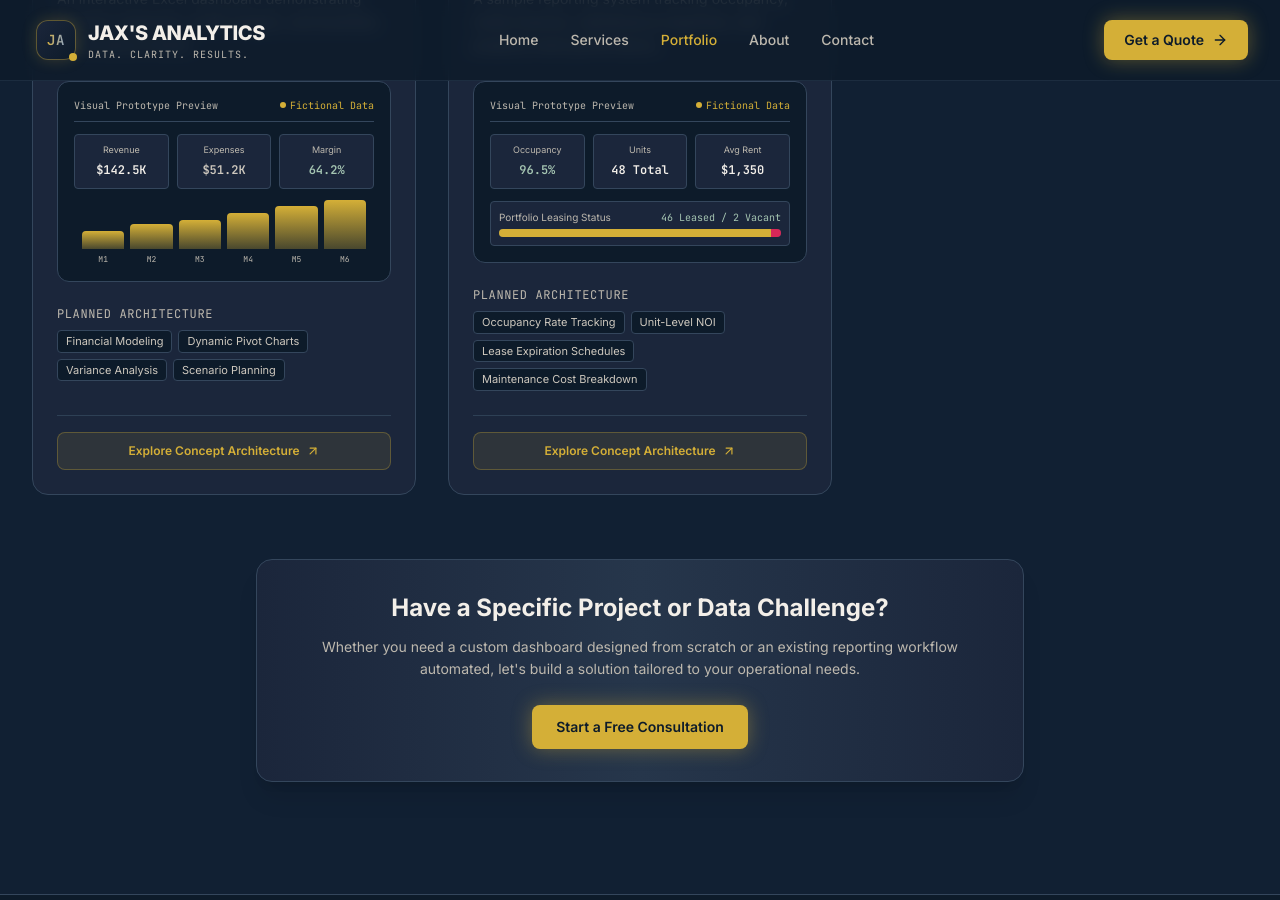
it: Jax's Analytics Website › 4. Portfolio Section › allows opening concept architecture modal without fake download links
(page scrolled)
Click the button "Explore Concept Architecture" below "Variance Analysis": (224, 450) x1=57 y1=432 x2=391 y2=470
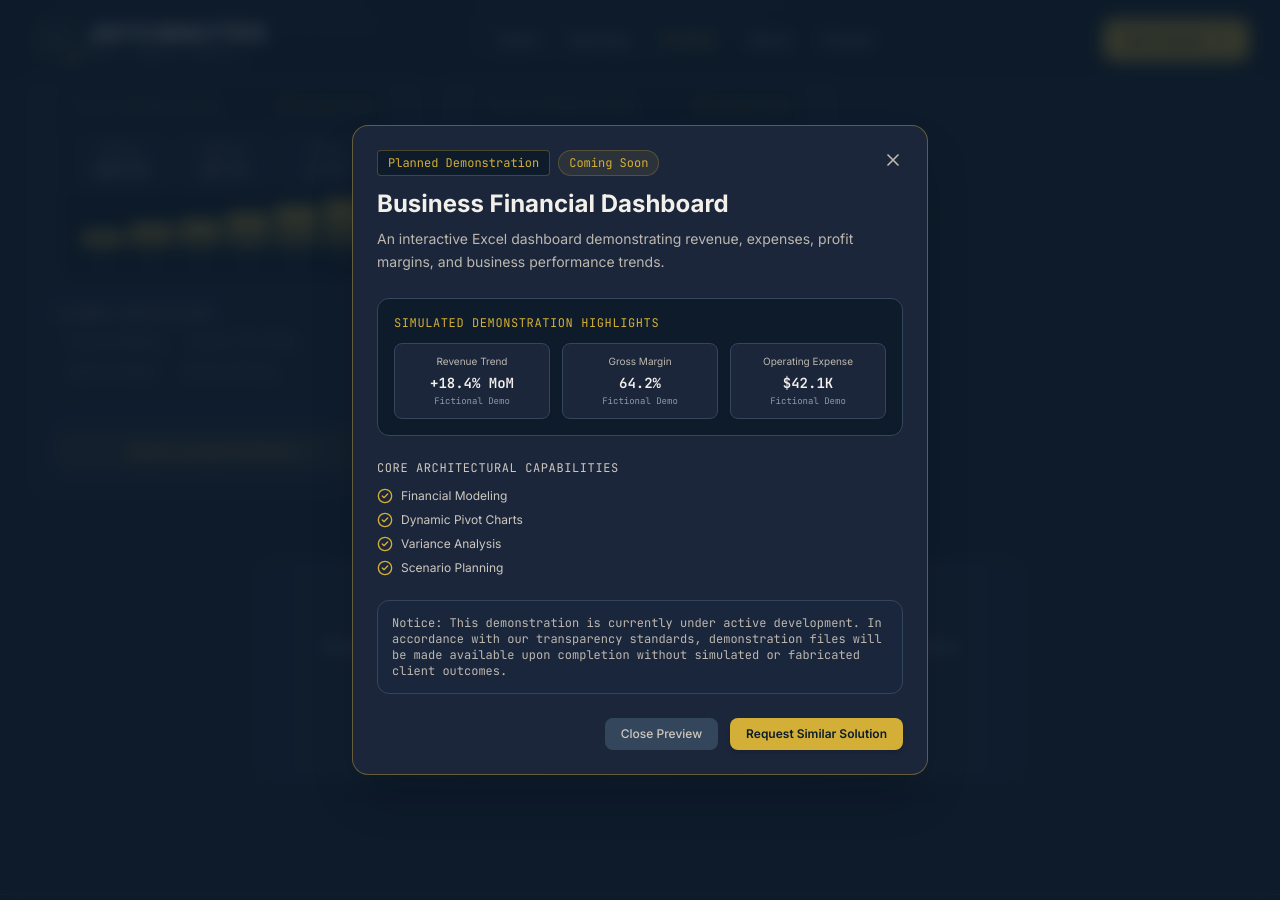
Check: the dialog is shown
Check: the heading "Core Architectural Capabilities" is shown, box x1=377 y1=460 x2=619 y2=476
Click the button named "close concept preview": (893, 160) x1=875 y1=142 x2=911 y2=178
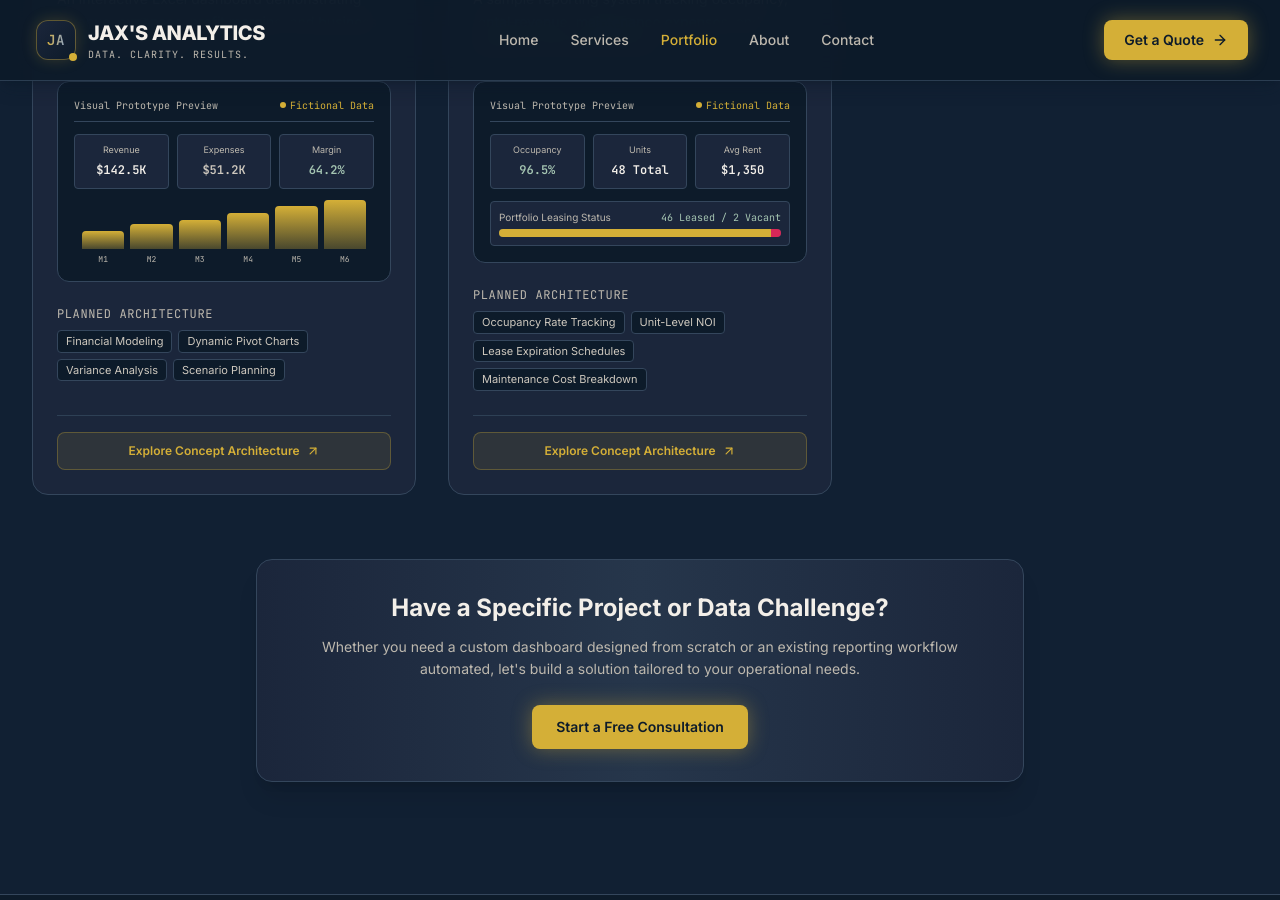
Check: the dialog is gone
